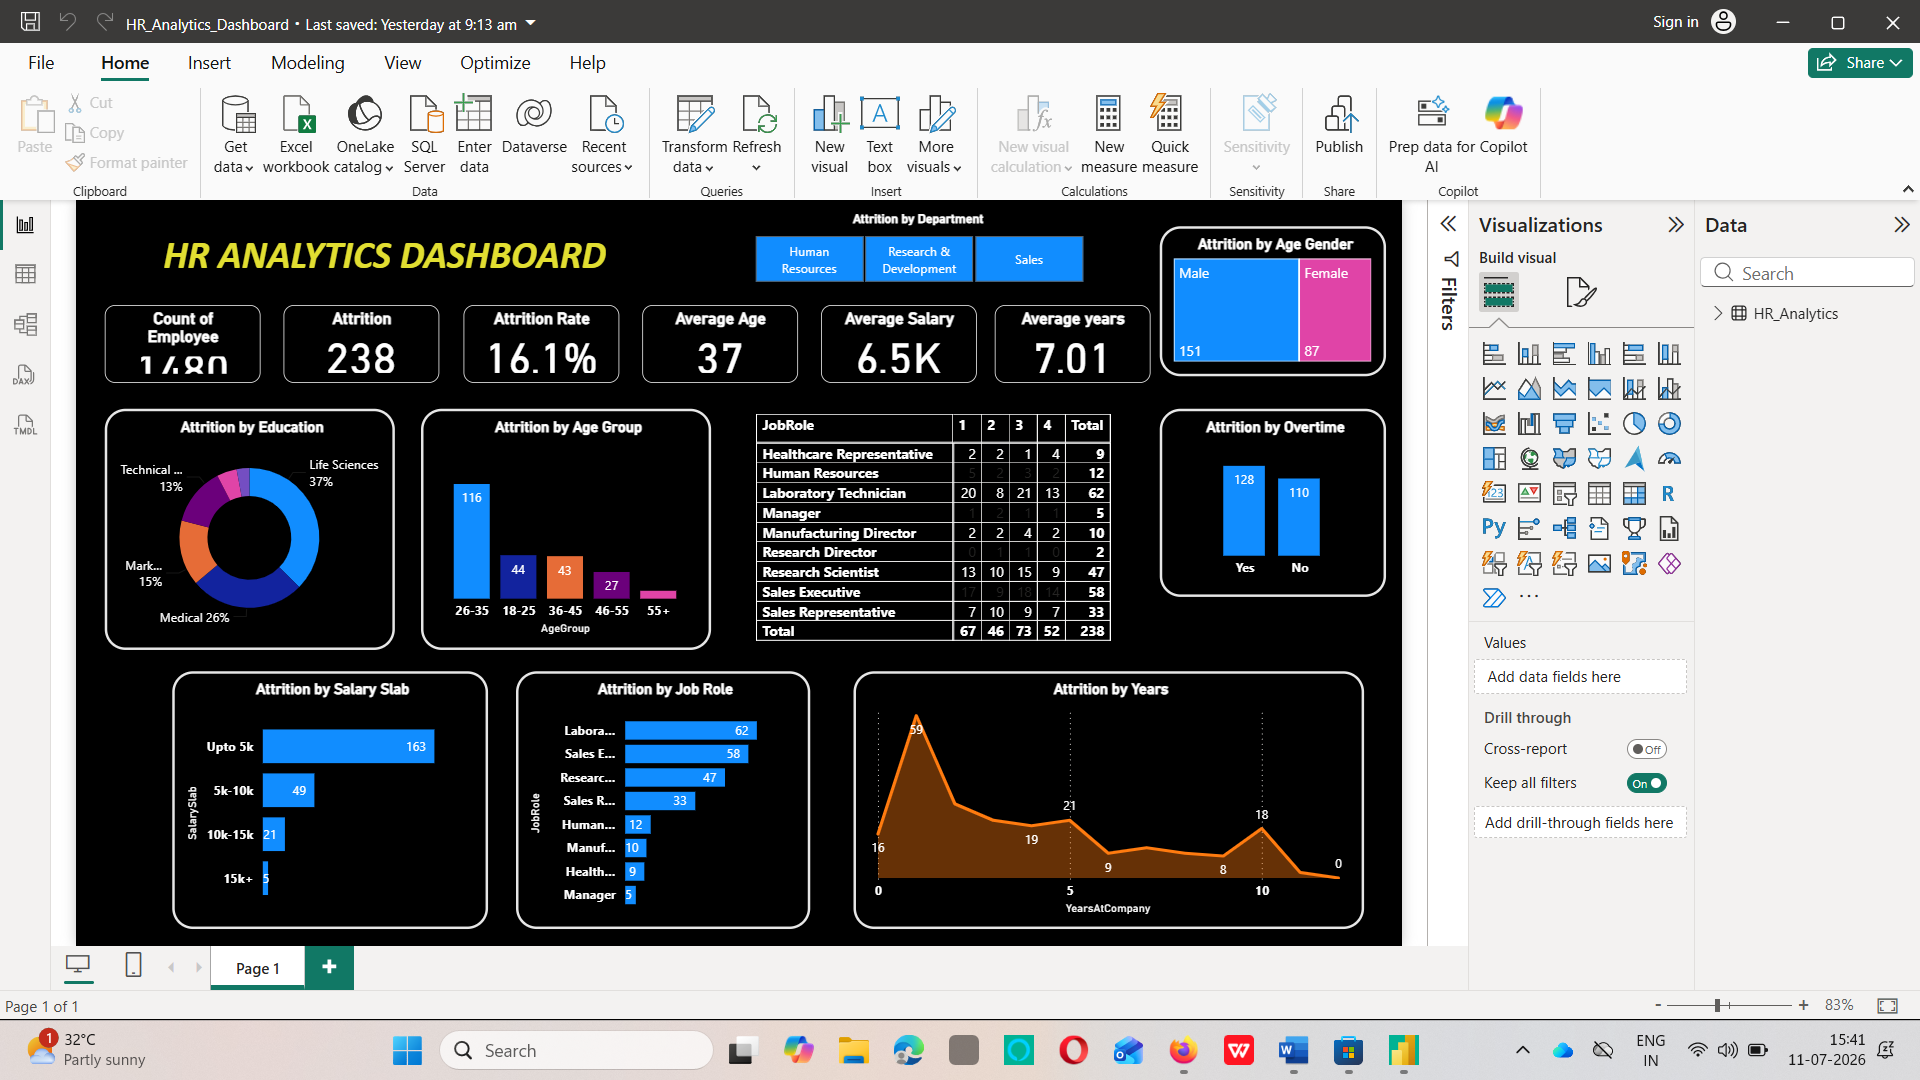

The dashboard page shown, as its layout file describes it:
{"tool":"powerbi","page":{"name":"Page 1","canvas":[1280,720],"ordinal":0},"visuals":[{"type":"card","title":"Count of Employee","fields":{"Values":["CountNonNull(HR_Analytics.EmpID)"]},"box":[27.5,101.2,150,75],"z":0},{"type":"card","title":"Attrition Rate","fields":{"Values":["HR_Analytics.AttritionRate"]},"box":[373.8,101.2,150,75],"z":1},{"type":"card","title":"Average Age","fields":{"Values":["Avg(HR_Analytics.Age)"]},"box":[546.2,101.2,150,75],"z":2},{"type":"card","title":"Attrition","fields":{"Values":["Sum(HR_Analytics.AttritionCount)"]},"box":[200,101.2,150,75],"z":3},{"type":"card","title":"Average Salary","fields":{"Values":["Avg(HR_Analytics.MonthlyIncome)"]},"box":[718.8,101.2,150,75],"z":4},{"type":"card","title":"Average years","fields":{"Values":["Avg(HR_Analytics.YearsAtCompany)"]},"box":[886.2,101.2,150,75],"z":5},{"type":"donutChart","title":"Attrition by Education","fields":{"Category":["HR_Analytics.EducationField"],"Y":["Sum(HR_Analytics.AttritionCount)"]},"box":[27.5,201.2,280,232.5],"z":6},{"type":"columnChart","title":"Attrition by Age Group","fields":{"Y":["Sum(HR_Analytics.AttritionCount)"],"Series":["HR_Analytics.AgeGroup"],"Category":["HR_Analytics.AgeGroup"]},"box":[332.5,201.2,280,232.5],"z":7},{"type":"pivotTable","fields":{"Rows":["HR_Analytics.JobRole"],"Columns":["HR_Analytics.JobSatisfaction"],"Values":["Sum(HR_Analytics.AttritionCount)"]},"box":[651.2,201.2,395,255],"z":8},{"type":"barChart","title":"Attrition by Salary Slab","fields":{"Category":["HR_Analytics.SalarySlab"],"Y":["Sum(HR_Analytics.AttritionCount)"]},"box":[92.5,455,305,248.8],"z":9},{"type":"barChart","title":"Attrition by Job Role","fields":{"Y":["Sum(HR_Analytics.AttritionCount)"],"Category":["HR_Analytics.JobRole"]},"box":[425,455,283.8,248.8],"z":10},{"type":"areaChart","title":"Attrition by Years","fields":{"Y":["Sum(HR_Analytics.AttritionCount)"],"Category":["HR_Analytics.YearsAtCompany"]},"box":[750,455,492.5,248.8],"z":11},{"type":"treemap","title":"Attrition by Age Gender","fields":{"Values":["Sum(HR_Analytics.AttritionCount)"],"Group":["HR_Analytics.Gender"]},"box":[1046.2,25,218.8,145],"z":12},{"type":"columnChart","title":"Attrition by Overtime","fields":{"Y":["Sum(HR_Analytics.AttritionCount)"],"Category":["HR_Analytics.OverTime"]},"box":[1046.2,201.2,218.8,181.2],"z":13},{"type":"slicer","title":"Attrition by Department","fields":{"Values":["HR_Analytics.Department"]},"box":[630,11.2,366.2,75],"z":14},{"type":"textbox","box":[27.5,25,540,61.2],"z":15}]}

Visuals, with their boxes on the page's 1280x720 design canvas (x1, y1, x2, y2). These are canvas units, not pixel positions in the 1920x1080 screenshot, which may show the page scaled, cropped or inside an application window:
"Count of Employee" card: 28 101 178 176
"Attrition Rate" card: 374 101 524 176
"Average Age" card: 546 101 696 176
"Attrition" card: 200 101 350 176
"Average Salary" card: 719 101 869 176
"Average years" card: 886 101 1036 176
"Attrition by Education" donutChart: 28 201 308 434
"Attrition by Age Group" columnChart: 332 201 612 434
pivotTable - HR_Analytics.JobRole x HR_Analytics.JobSatisfaction: 651 201 1046 456
"Attrition by Salary Slab" barChart: 92 455 398 704
"Attrition by Job Role" barChart: 425 455 709 704
"Attrition by Years" areaChart: 750 455 1242 704
"Attrition by Age Gender" treemap: 1046 25 1265 170
"Attrition by Overtime" columnChart: 1046 201 1265 382
"Attrition by Department" slicer: 630 11 996 86
textbox: 28 25 568 86
